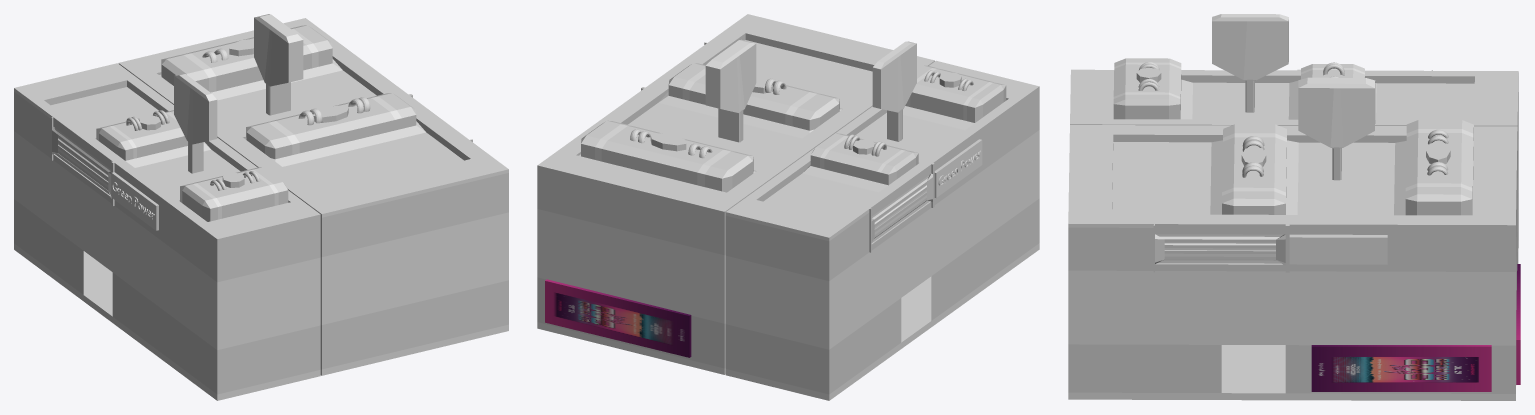
Rendered from bina 4.fbx.
3 views of the same model, side by side, from view 1: azimuth 30°, elevation 25°; view 2: azimuth 150°, elevation 25°; view 3: azimuth 270°, elevation 25° (orthographic). The views are drawn at different scales.
Parts seen in each view (by area): view 1: Plane.016; view 2: Plane.016; view 3: Plane.016.
Part boxes in pixels (x1,y1,x2,y2): Plane.016: (14, 14, 508, 400); Plane.016: (537, 14, 1039, 400); Plane.016: (1068, 14, 1520, 400).
Size of the model in its own units: 65.37 by 41.8 by 54.54.
8 materials, 1 textured.
